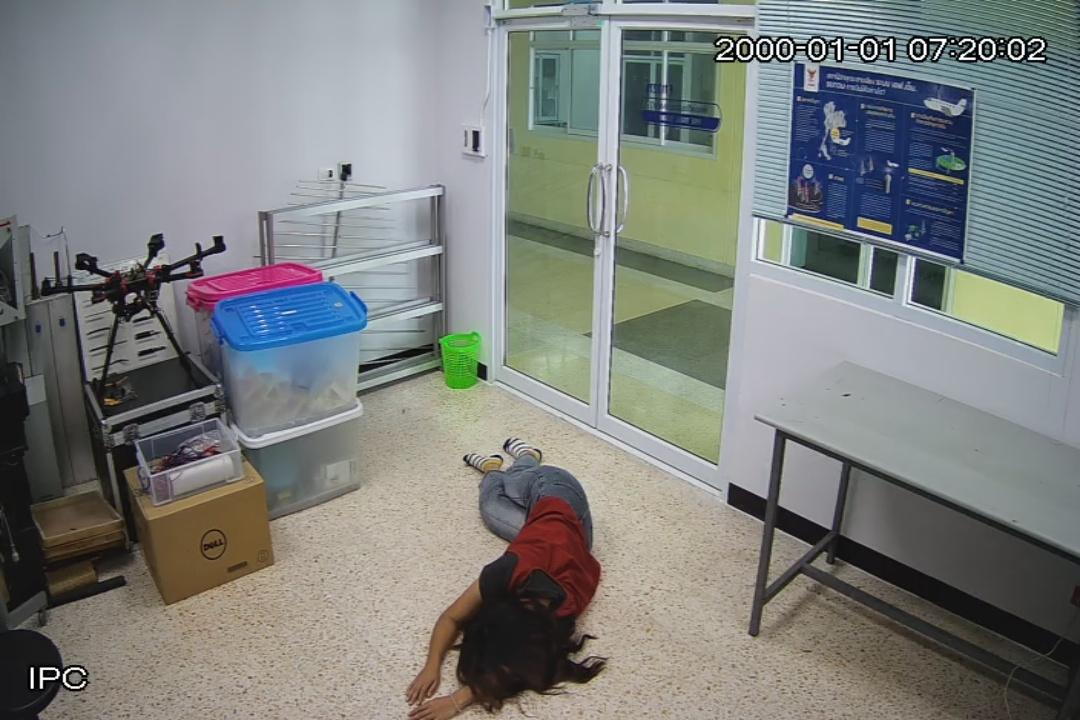fall: (411, 433, 602, 720)
